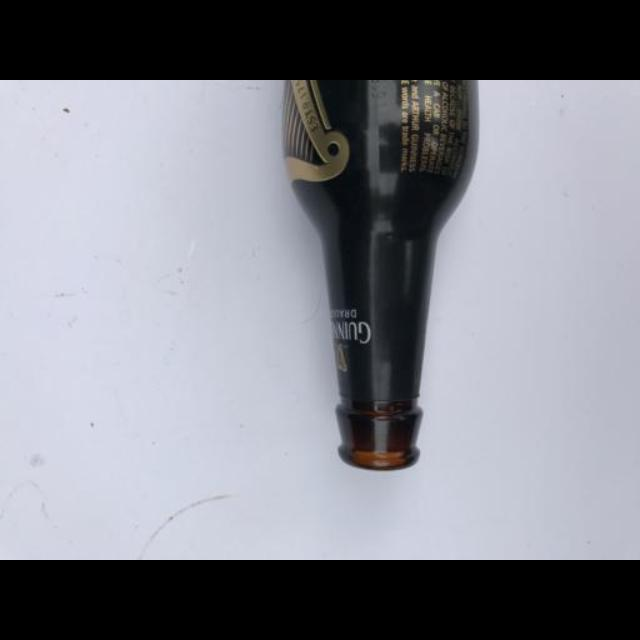garrafa de vidro: (282, 80, 478, 468)
